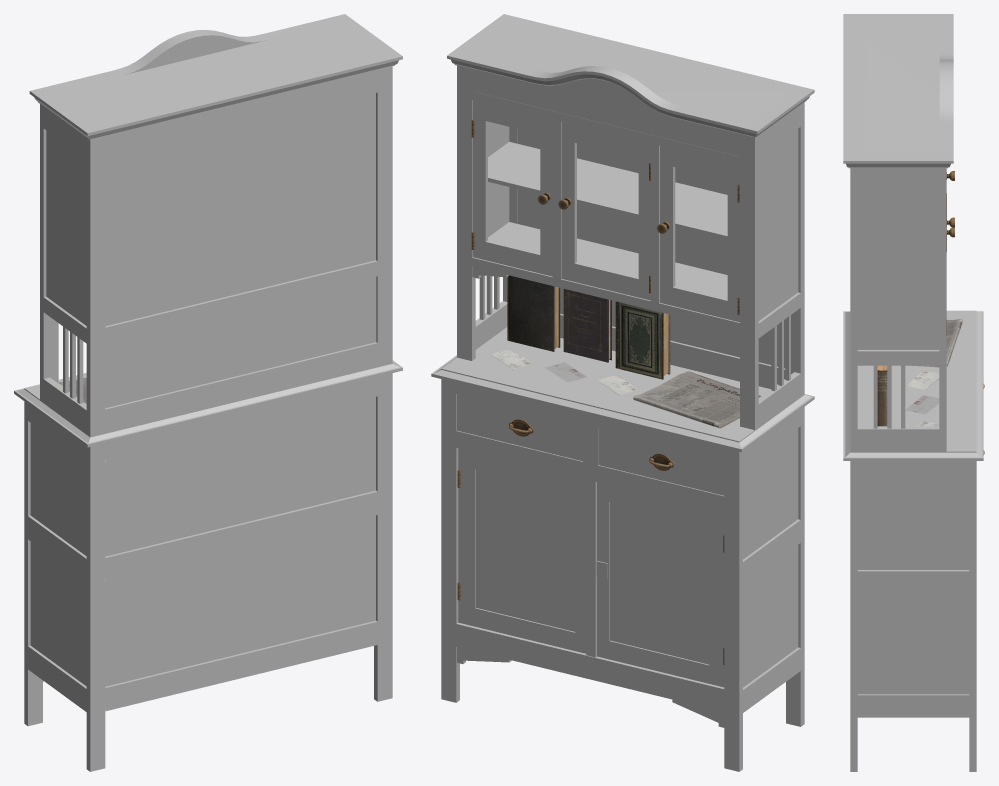
The model's file is bookshelf.fbx.
3 renders of one model, left to right at view 1: azimuth 30°, elevation 25°; view 2: azimuth 150°, elevation 25°; view 3: azimuth 270°, elevation 25°, orthographic. The views are drawn at different scales.
Visible parts, largest first — view 1: Bookshelf_main; view 2: Bookshelf_main, Bookshelf_door2, Bookshelf_door1, Bookshelf_updoor2, Bookshelf_updoor1, Bookshelf_updoor3, Bookshelf_slide2, Bookshelf_slide1, book2, newspaper, book1, book3; view 3: Bookshelf_main, book1, newspaper, letter2, letter3.
Boxes of the visible parts, bbox=[...] form: Bookshelf_main: bbox=[14, 14, 402, 771]; Bookshelf_main: bbox=[431, 14, 814, 771]; Bookshelf_door2: bbox=[586, 479, 724, 687]; Bookshelf_door1: bbox=[457, 448, 586, 653]; Bookshelf_updoor2: bbox=[558, 122, 650, 300]; Bookshelf_updoor1: bbox=[471, 100, 552, 276]; Bookshelf_updoor3: bbox=[657, 146, 739, 322]; Bookshelf_slide2: bbox=[598, 428, 724, 495]; Bookshelf_slide1: bbox=[457, 394, 582, 461]; book2: bbox=[615, 301, 670, 379]; newspaper: bbox=[633, 371, 761, 428]; book1: bbox=[507, 275, 560, 351]; book3: bbox=[563, 289, 611, 362]; Bookshelf_main: bbox=[843, 14, 983, 771]; book1: bbox=[877, 365, 887, 426]; newspaper: bbox=[912, 318, 962, 367]; letter2: bbox=[905, 395, 939, 414]; letter3: bbox=[905, 370, 939, 389].
Bounding box in the file's own units: 101 × 202 × 40.94.
